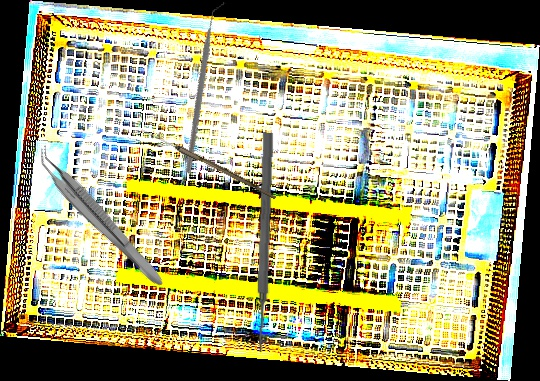Chopper: (130, 1, 282, 175)
Pusher: (252, 132, 276, 353)
Surgical Spoon: (140, 127, 278, 200)
Tissue Forceps: (27, 143, 174, 291)
